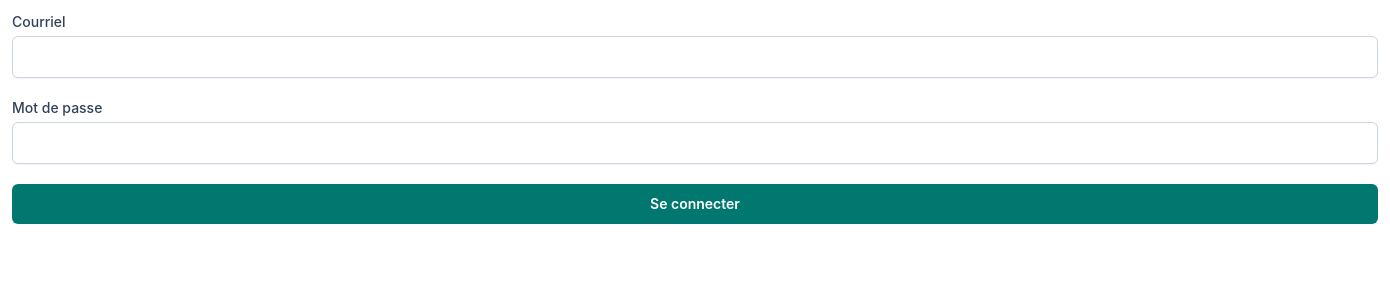
LoginForm › shows the generic message when the credentials are rejected
Type "infirmiere@cliniflow.test" into the field labelled "Courriel". click: [695, 57]
box: [12,36,1378,78]
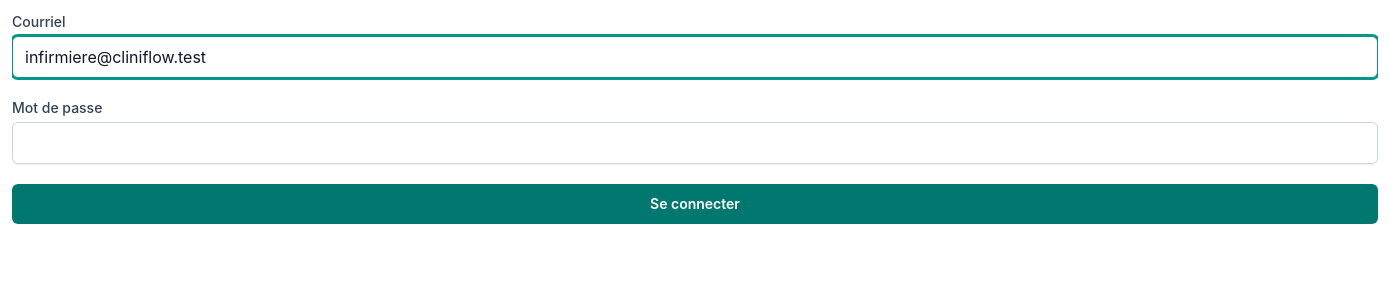
Type "faux" into the password field labelled "Mot de passe". click: [695, 143]
box: [12,122,1378,164]
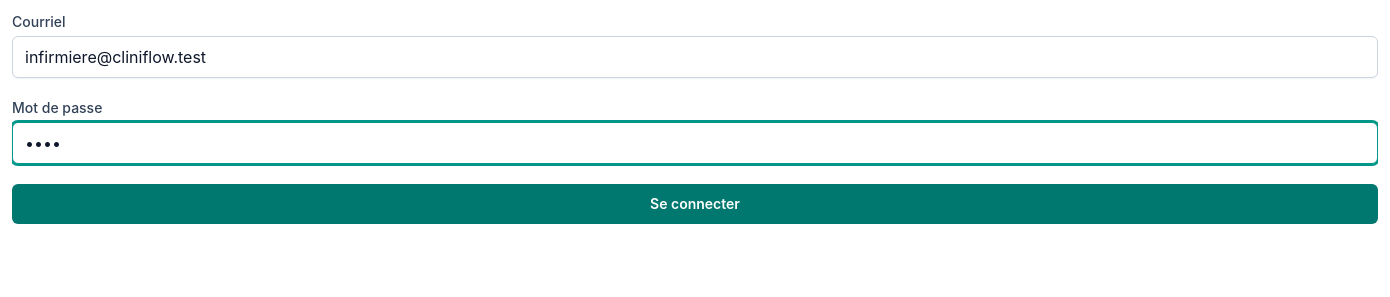
Click the button "Se connecter". click: [695, 204]
box: [12,184,1378,224]
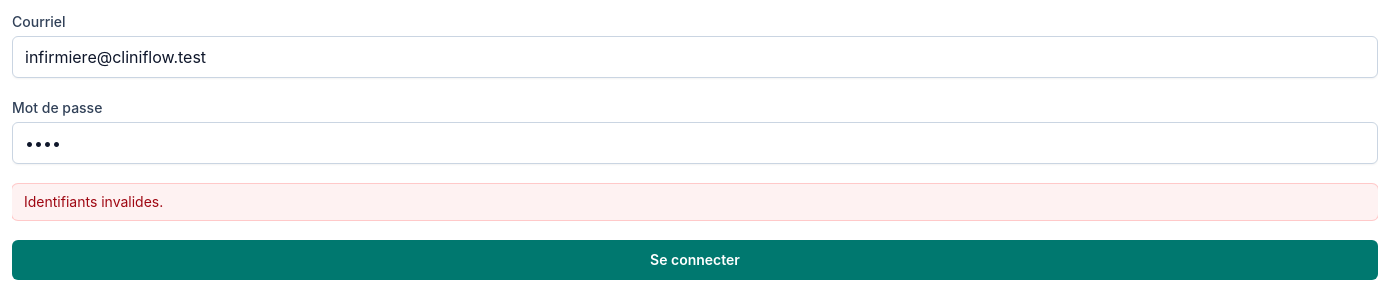
Expected: the message reads "Identifiants invalides.", [24,193,163,210]
